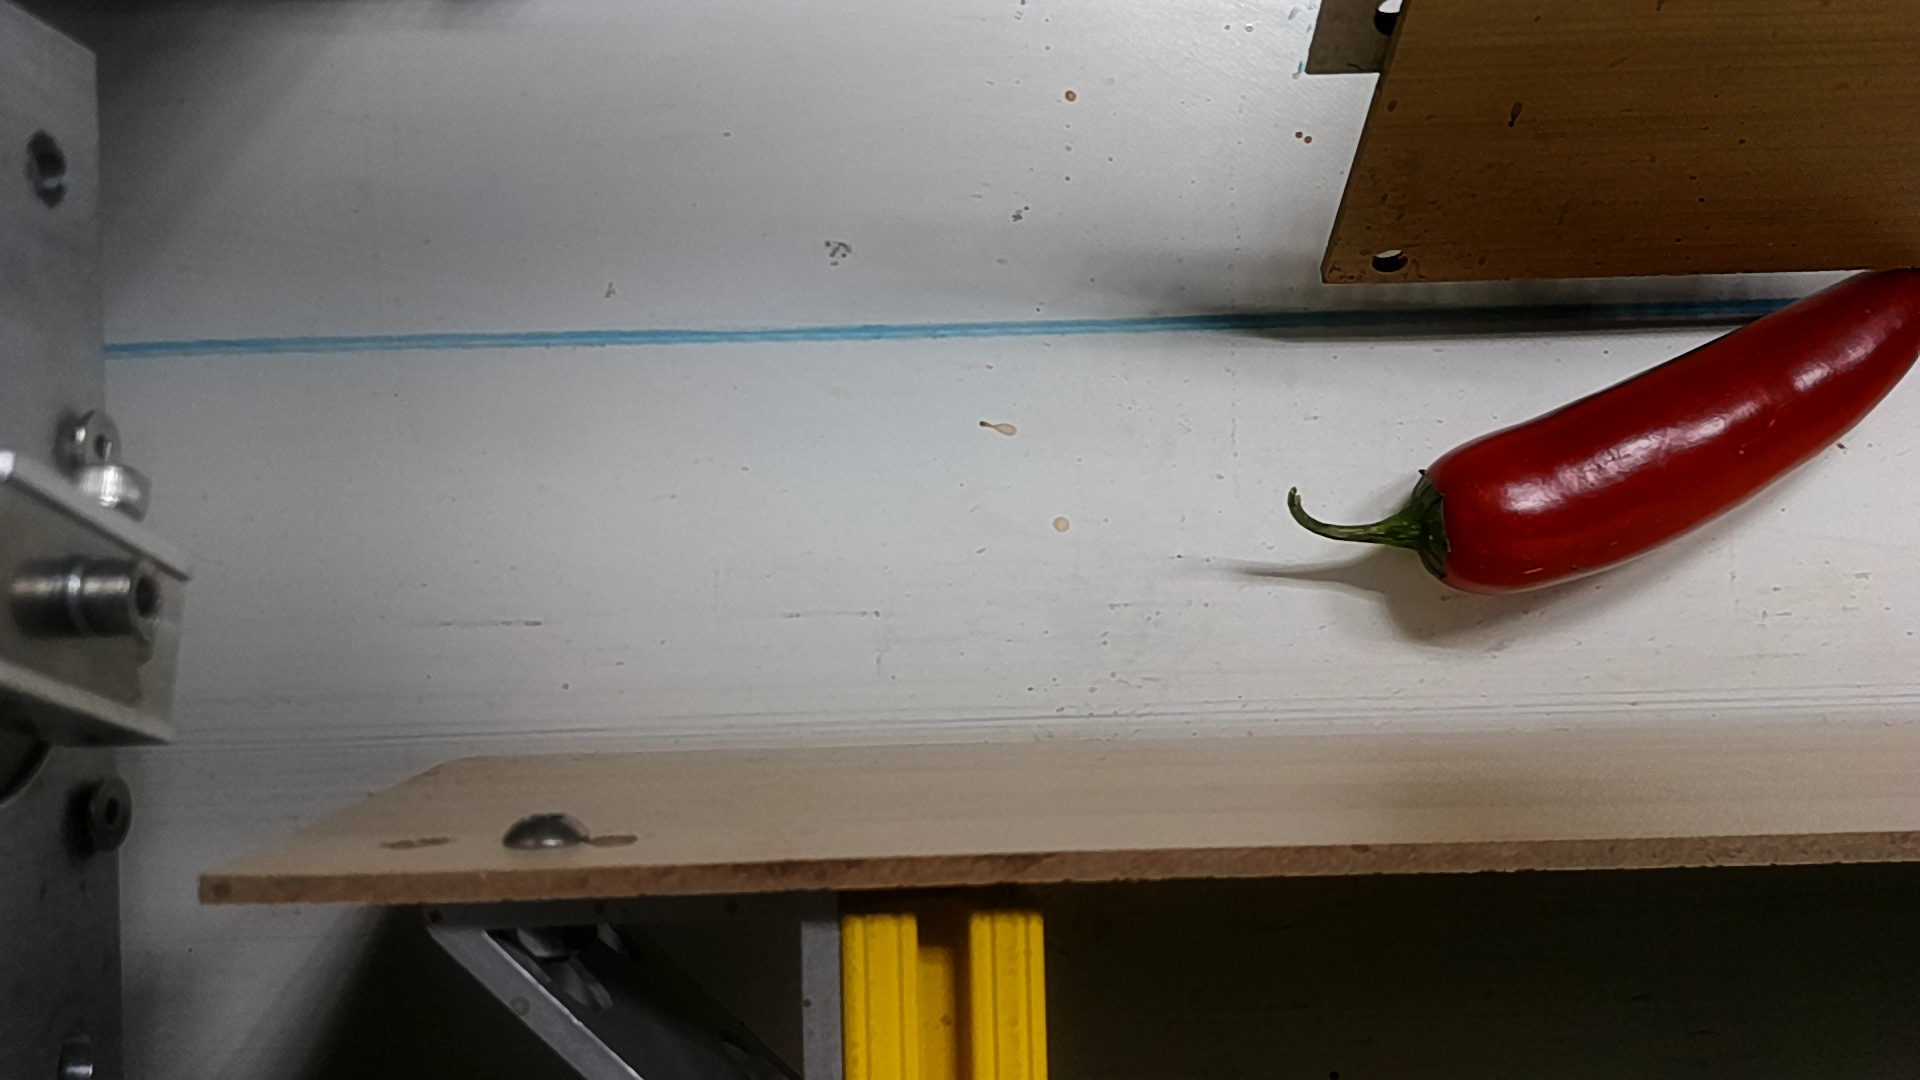Cut Point: (1383, 436, 1497, 596)
